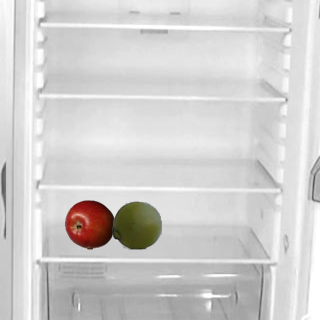Apple Braeburn: (64, 199, 114, 249)
Grape White 4: (111, 199, 161, 249)
